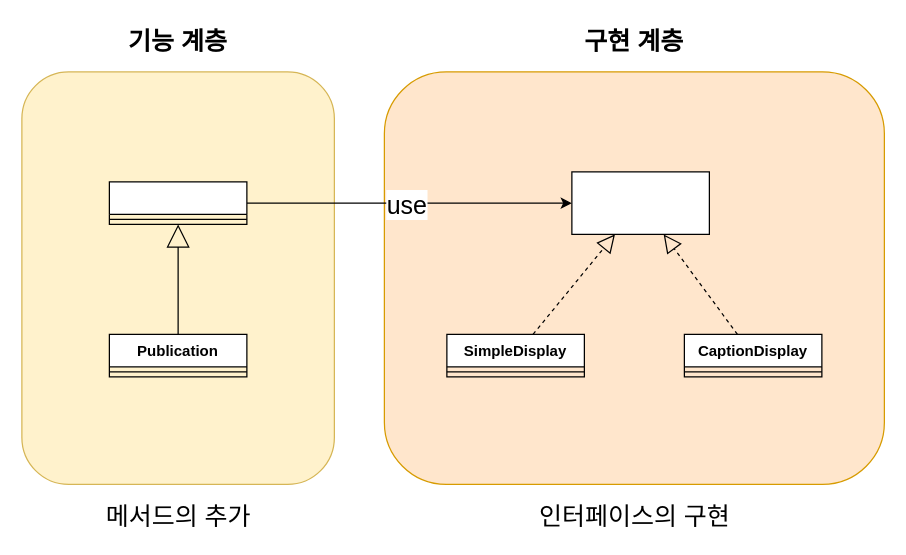
This 906x555 diagram has some shape labels left out. The centre of each missing label's shape, as x and y in pixels:
"Draft" goes at (x=177, y=202).
"«interface» Display" goes at (x=640, y=202).
